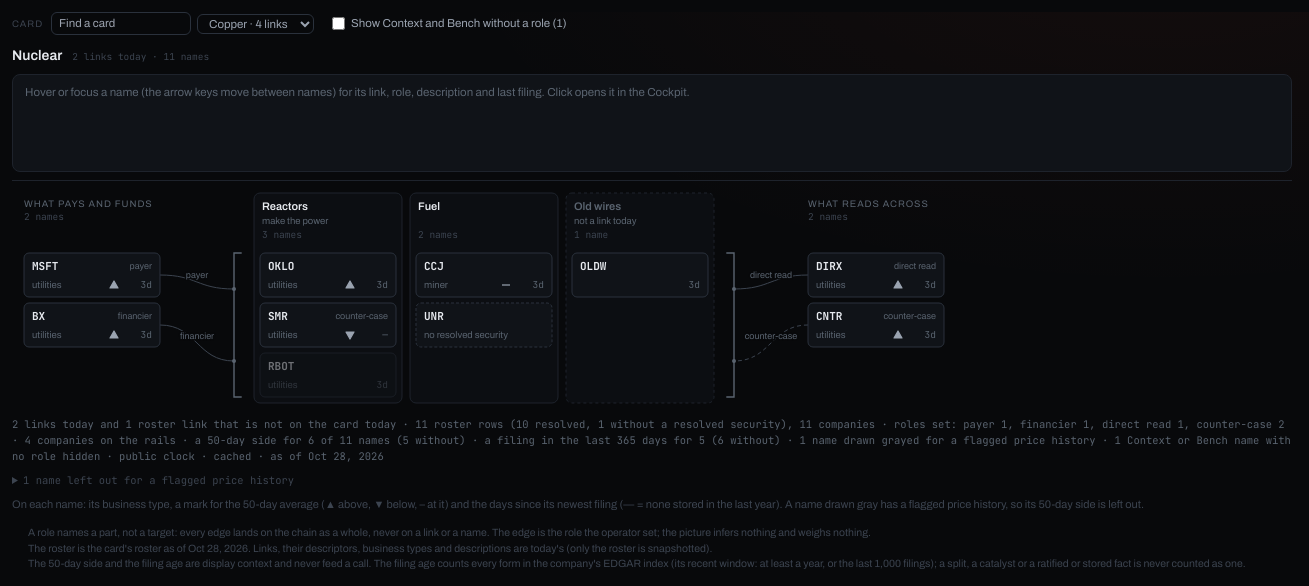
Scenario: ChainMap › shows the Context and Bench names with no role only behind a toggle that counts them
The width and height of the screenshot is (1309, 586).
Click the checkbox labelled "Show Context and Bench without a role (1)" at (339, 24), box x1=332 y1=17 x2=345 y2=30
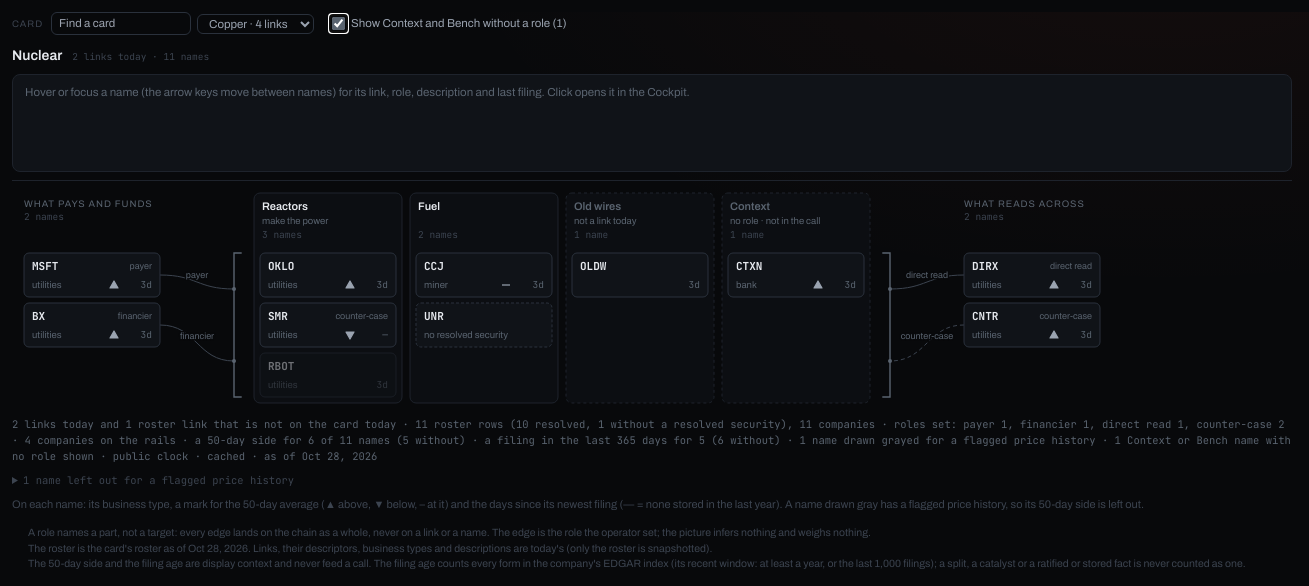
Expected: the checkbox labelled "Show Context and Bench without a role (1)" is checked, x1=332 y1=17 x2=345 y2=30
Expected: the text "1 Context or Bench name with no role shown" is shown, x1=12 y1=417 x2=1291 y2=463
